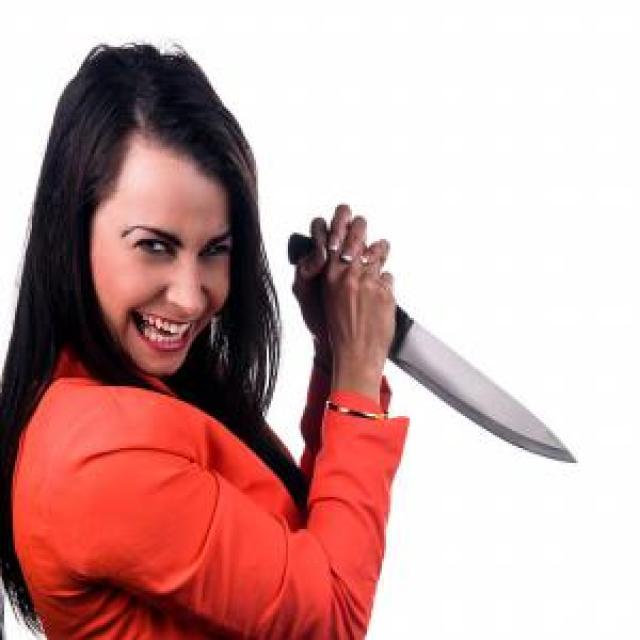knife: (286, 228, 582, 471)
